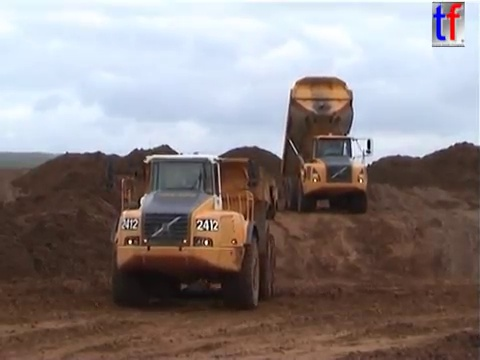truck: (103, 149, 281, 310), (278, 74, 374, 215)
